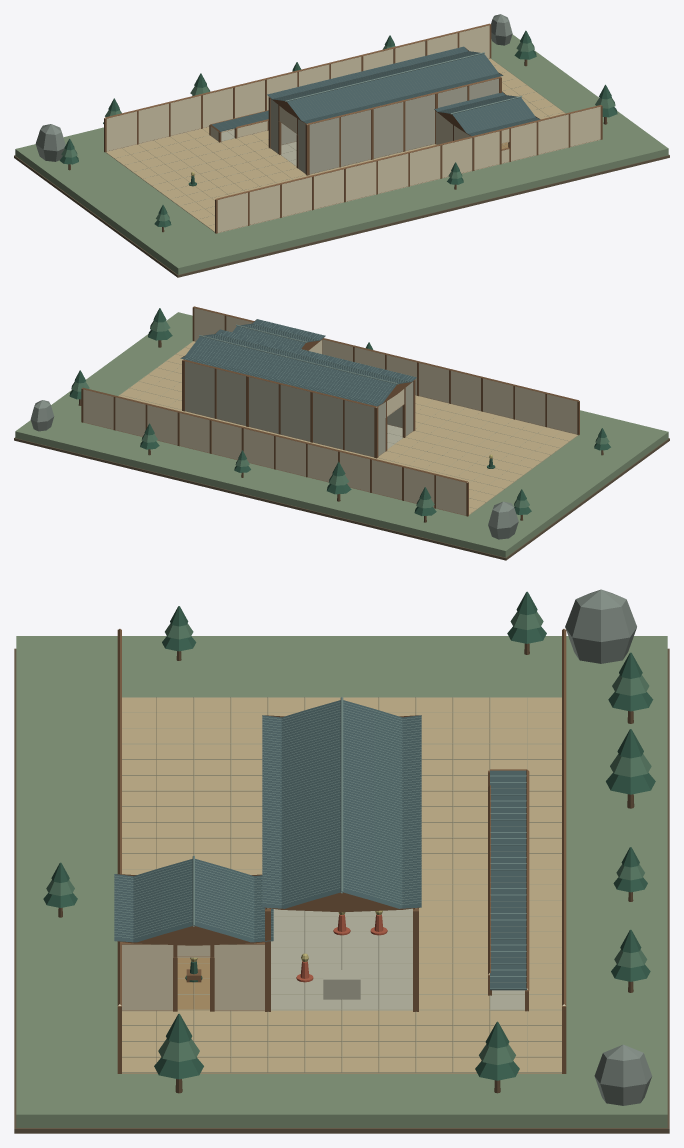
The model's file is return-slope.obj.
3 views of the same model, one above another, from view 1: azimuth 30°, elevation 25°; view 2: azimuth 150°, elevation 25°; view 3: azimuth 270°, elevation 25° (orthographic). The views are drawn at different scales.
Visible parts, largest first — view 1: ground, walls, roofs, vegetation, grid, details; view 2: ground, walls, roofs, vegetation, grid, details; view 3: ground, roofs, walls, vegetation, grid, details, gm.
Boxes of the visible parts, bbox=[...] form: ground: bbox=[14, 34, 669, 277]; walls: bbox=[104, 23, 602, 233]; roofs: bbox=[212, 46, 540, 136]; vegetation: bbox=[59, 30, 617, 232]; grid: bbox=[106, 58, 564, 231]; details: bbox=[35, 14, 512, 161]; ground: bbox=[14, 312, 669, 560]; walls: bbox=[81, 306, 579, 516]; roofs: bbox=[180, 319, 416, 416]; vegetation: bbox=[69, 308, 610, 522]; grid: bbox=[118, 341, 577, 514]; details: bbox=[30, 400, 518, 539]; ground: bbox=[14, 636, 669, 1133]; roofs: bbox=[114, 697, 526, 990]; walls: bbox=[117, 629, 566, 1073]; vegetation: bbox=[43, 591, 655, 1093]; grid: bbox=[122, 697, 561, 1072]; details: bbox=[186, 589, 651, 1105]; gm: bbox=[185, 910, 387, 982].
Size of the model in its own units: 154 by 21.09 by 88.5.
